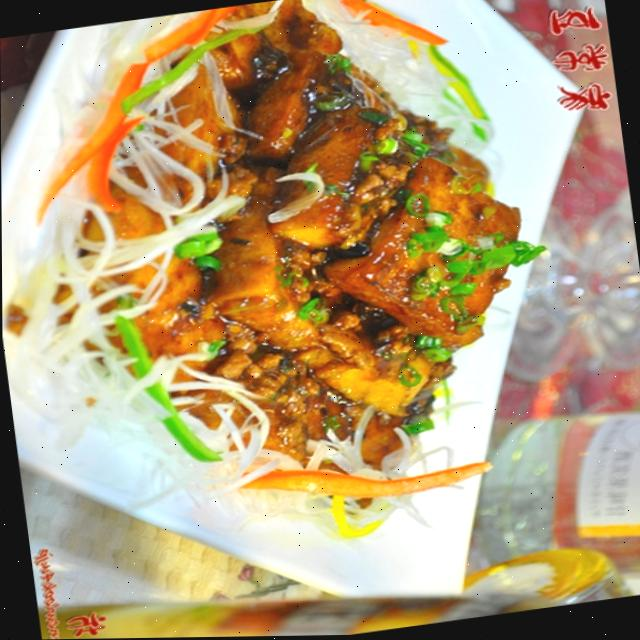豆腐料理: (19, 0, 595, 564)
